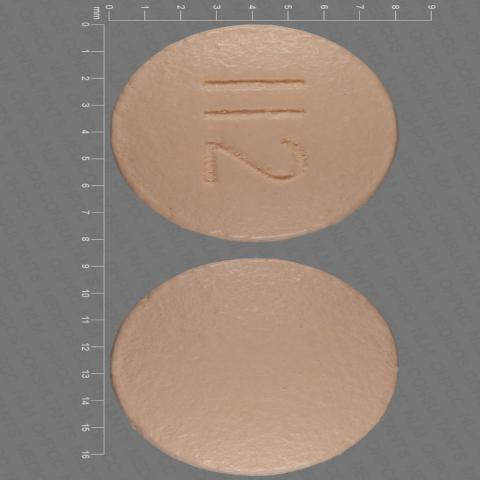Pill: (92, 226, 437, 480), (87, 4, 433, 250)
